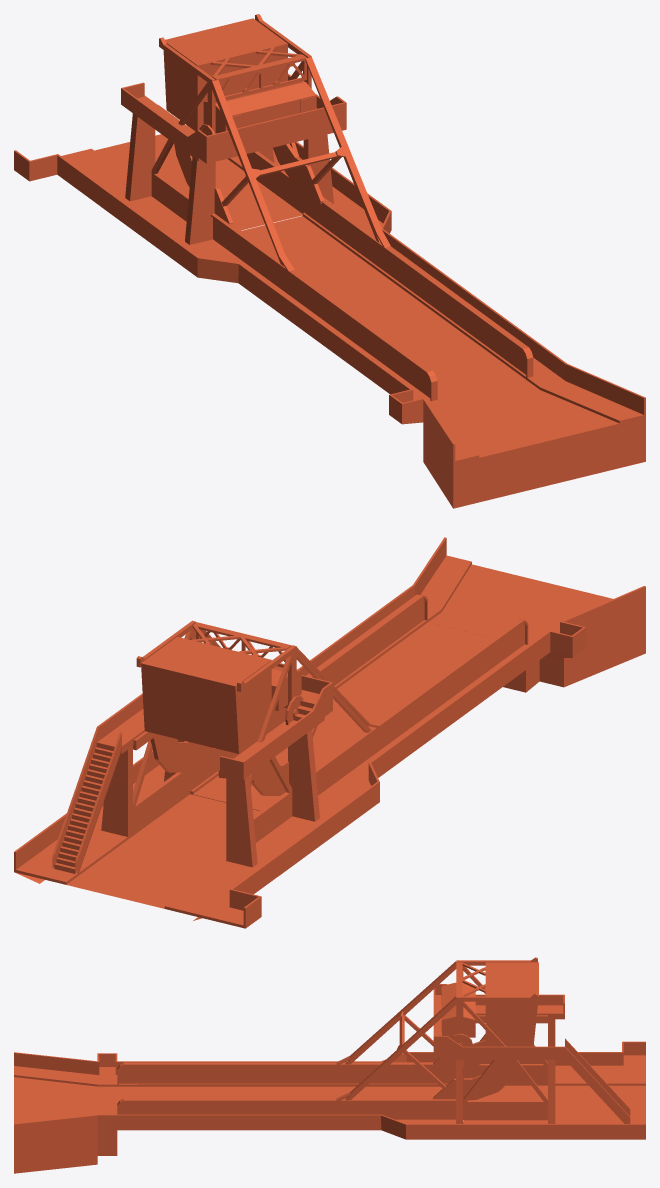
The model's file is pegasus-bridge.fbx.
3 views of the same model, one above another, from view 1: azimuth 30°, elevation 25°; view 2: azimuth 150°, elevation 25°; view 3: azimuth 270°, elevation 25° (orthographic). The views are drawn at different scales.
Visible parts, largest first — view 1: Pegasus-bridge_middle, Pegasus-bridge_start, Pegasus-bridge_end; view 2: Pegasus-bridge_middle, Pegasus-bridge_end, Pegasus-bridge_start; view 3: Pegasus-bridge_middle, Pegasus-bridge_end, Pegasus-bridge_start.
Boxes of the visible parts, <box> form: Pegasus-bridge_middle: <box>100,14,554,401</box>; Pegasus-bridge_start: <box>389,354,645,508</box>; Pegasus-bridge_end: <box>14,74,346,244</box>; Pegasus-bridge_middle: <box>94,594,550,876</box>; Pegasus-bridge_end: <box>14,675,332,928</box>; Pegasus-bridge_start: <box>400,537,645,692</box>; Pegasus-bridge_middle: <box>117,957,555,1139</box>; Pegasus-bridge_end: <box>433,984,645,1139</box>; Pegasus-bridge_start: <box>14,1052,117,1173</box>.
Bounding box in the file's own units: 17.69 × 16.05 × 56.89.
